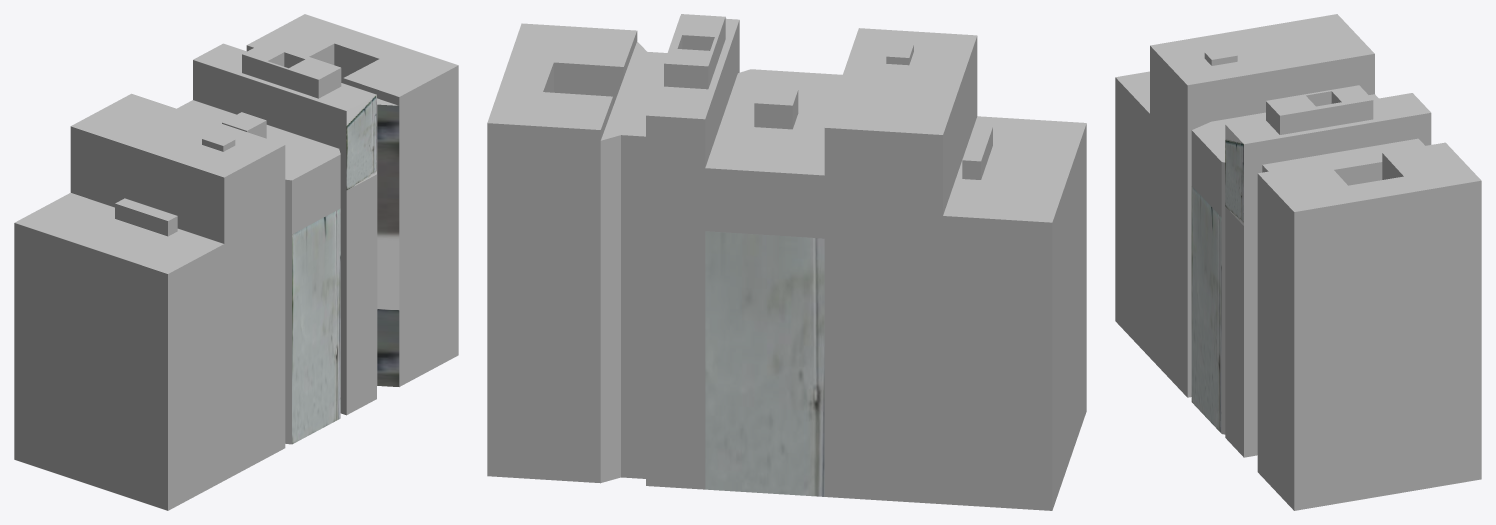
Rendered from prédios.fbx.
3 renders of one model, left to right at view 1: azimuth 30°, elevation 25°; view 2: azimuth 150°, elevation 25°; view 3: azimuth 270°, elevation 25°, orthographic. The views are drawn at different scales.
Visible parts, largest first — view 1: Model; view 2: Model; view 3: Model.
Part boxes in pixels (box(x1,y1,x2,y2)): Model: box(14, 14, 458, 510); Model: box(487, 14, 1086, 510); Model: box(1115, 14, 1481, 510).
Size of the model in its own units: 80.87 by 56.71 by 56.56.
